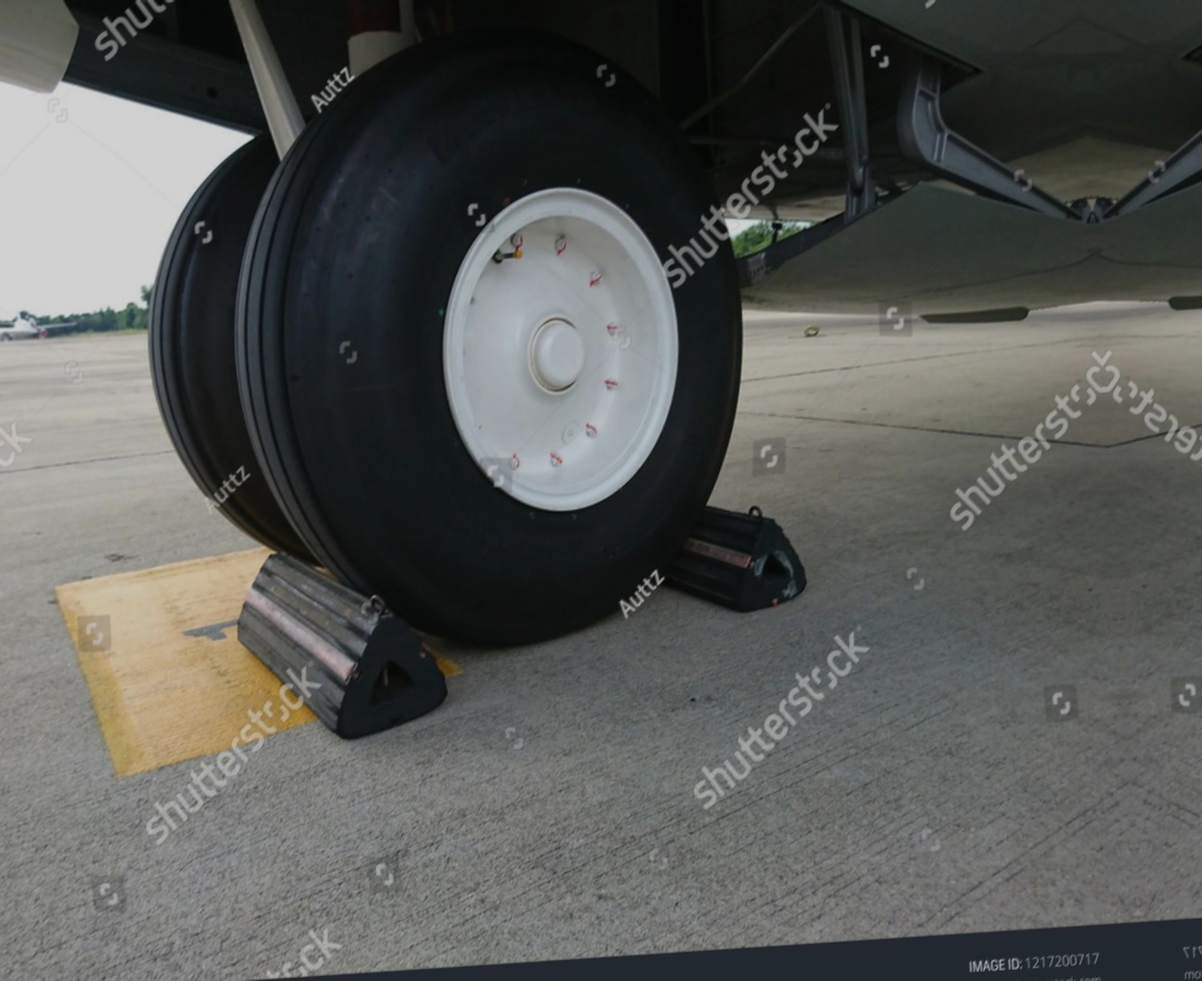chock: (231, 539, 449, 746), (646, 484, 811, 621)
wheel: (237, 18, 737, 662), (130, 128, 327, 569)
